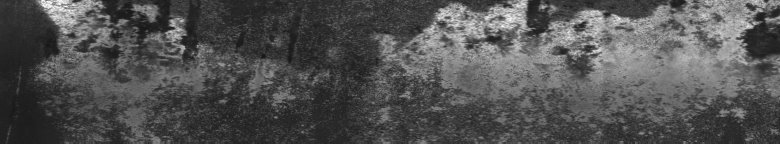kb: (52, 4, 776, 136)
